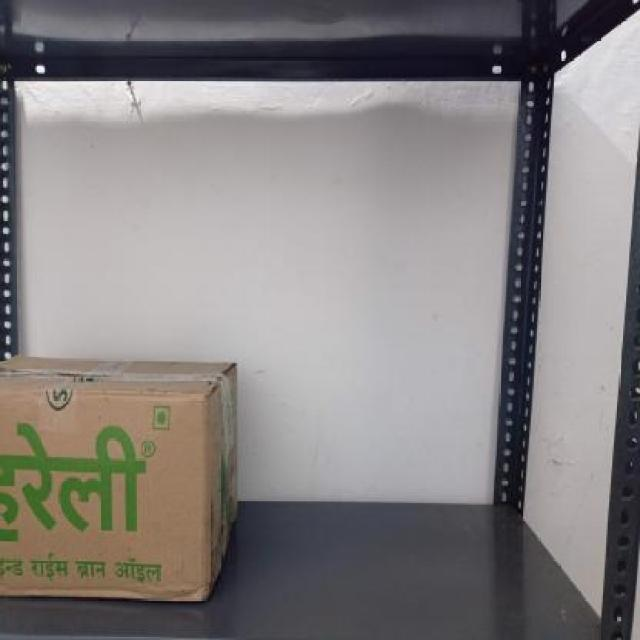box: (1, 394, 204, 600)
